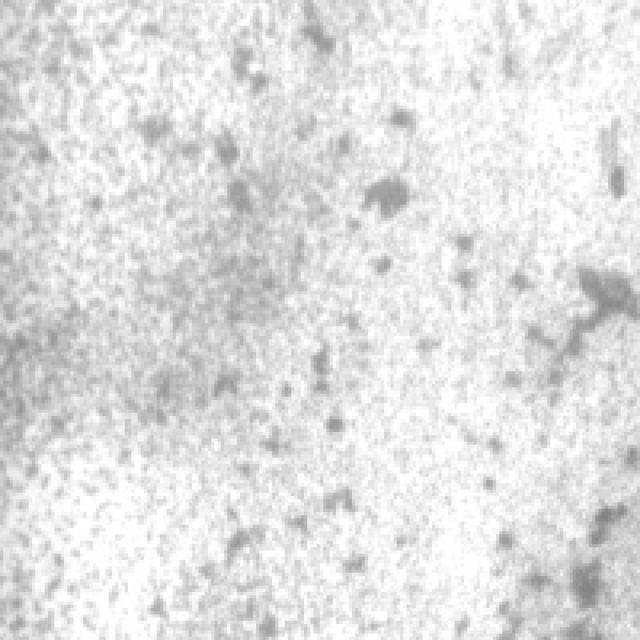pitted_surface: (3, 0, 490, 637), (499, 237, 640, 637)
